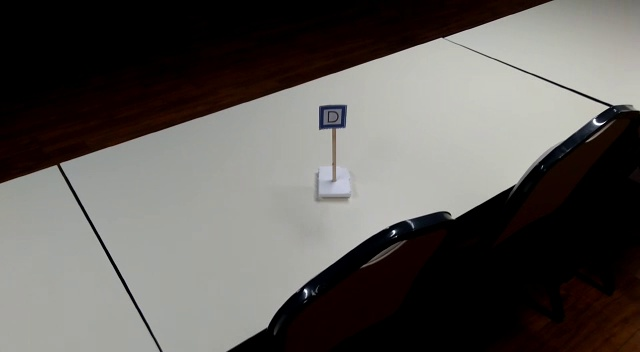durak: (319, 104, 347, 131)
